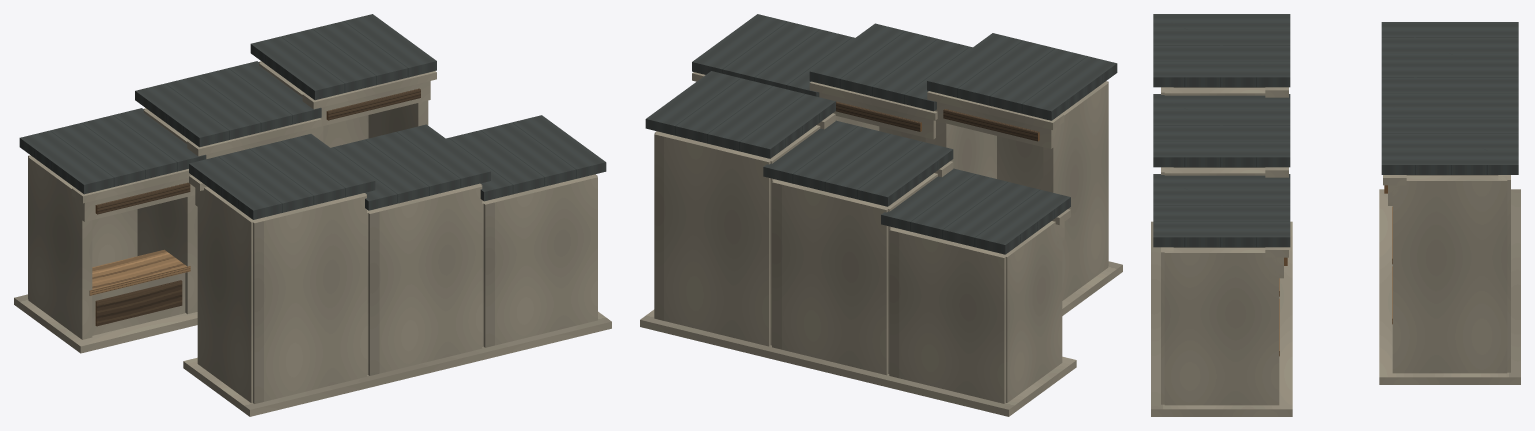
File: bamako.glb
The picture shows the model from 3 angles, left to right: view 1: azimuth 30°, elevation 25°; view 2: azimuth 150°, elevation 25°; view 3: azimuth 270°, elevation 25°; orthographic projection. The views are drawn at different scales.
Visible parts, largest first — view 1: bamako; view 2: bamako; view 3: bamako.
Part boxes in pixels (bbox=[...]): bamako: bbox=[14, 14, 611, 416]; bamako: bbox=[640, 14, 1122, 416]; bamako: bbox=[1151, 14, 1520, 416].
Size of the model in its own units: 5.43 by 2.5 by 3.85.
Materials: 1 (1 with a texture image).
